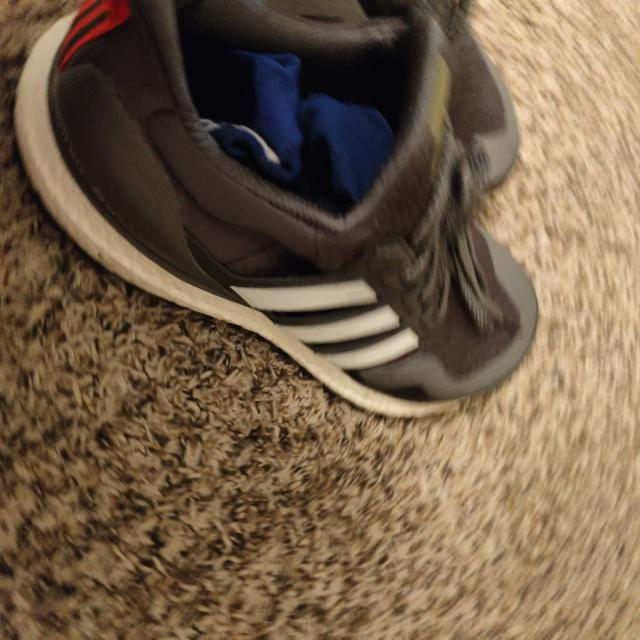black shoes: (18, 0, 541, 407)
